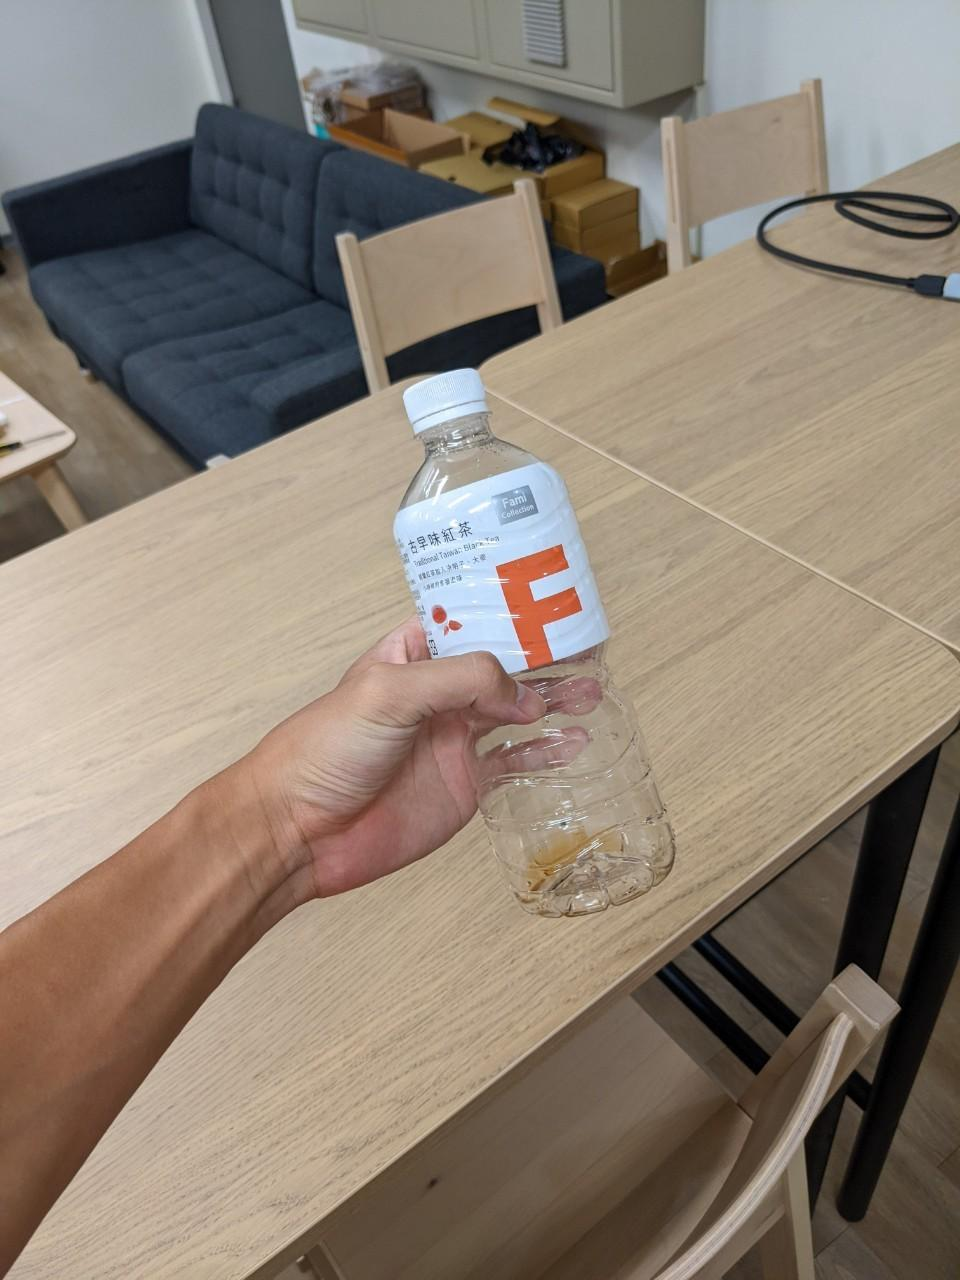BIODEGRADABLE: (377, 358, 680, 923)
